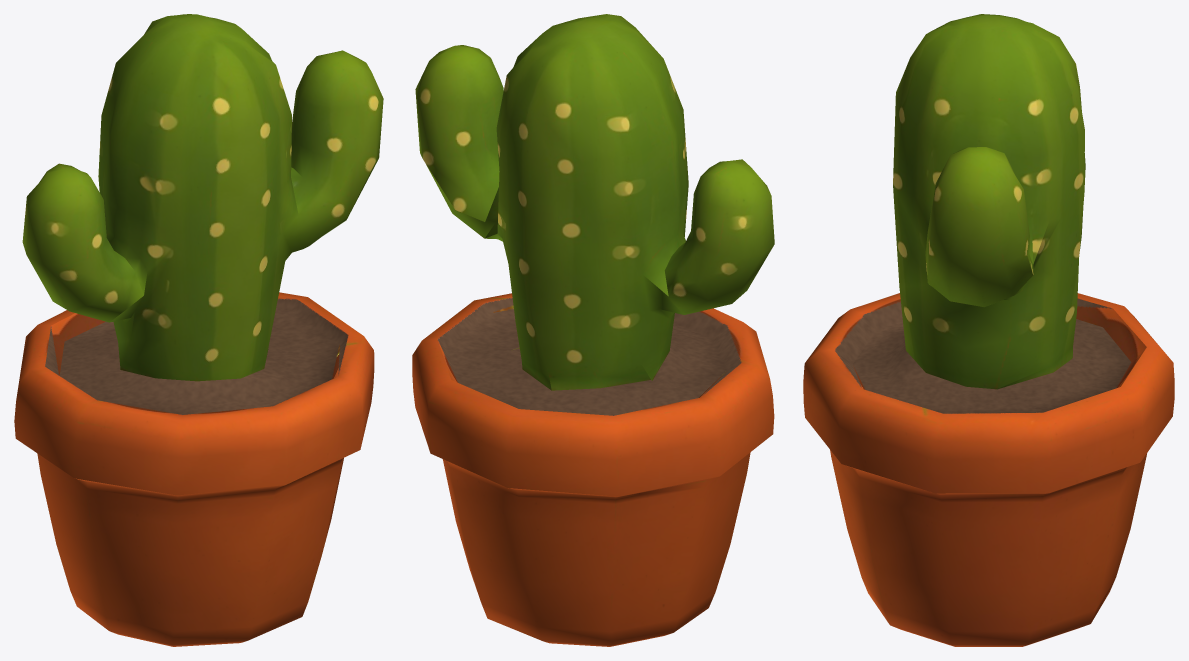
The model's file is cactus.glb.
The picture shows the model from 3 angles, left to right: view 1: azimuth 30°, elevation 25°; view 2: azimuth 150°, elevation 25°; view 3: azimuth 270°, elevation 25°; orthographic projection.
Parts seen in each view (by area): view 1: cactus; view 2: cactus; view 3: cactus.
Part boxes in pixels (x1,y1,x2,y2): cactus: (14,14,383,646); cactus: (412,14,774,646); cactus: (803,14,1174,646).
Bounding box in the file's own units: 0.686 × 1.1 × 0.6333.
Materials: 1 (1 with a texture image).
